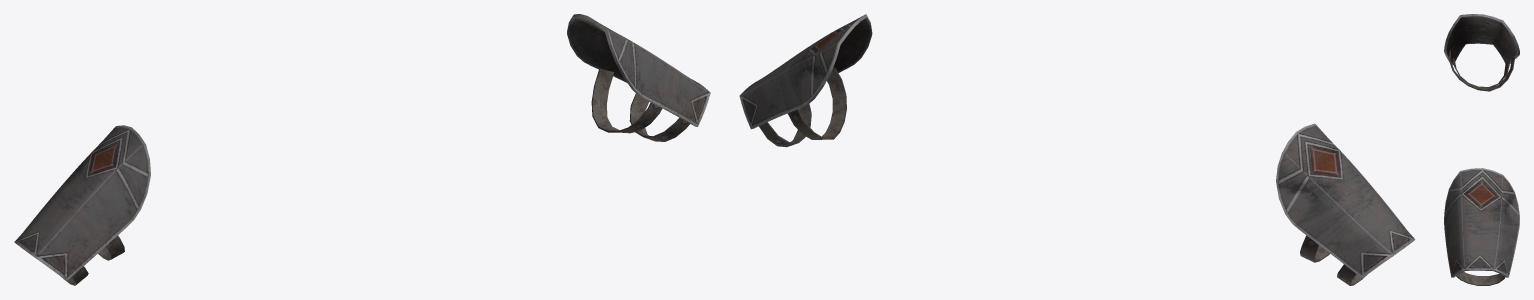
The model's file is sk_dwarf_iron_bracer_light_a1.fbx.
3 views of the same model, side by side, from view 1: azimuth 30°, elevation 25°; view 2: azimuth 150°, elevation 25°; view 3: azimuth 270°, elevation 25° (orthographic). The views are drawn at different scales.
Visible parts, largest first — view 1: sk_dwarf_iron_bracer_light_a1; view 2: sk_dwarf_iron_bracer_light_a1; view 3: sk_dwarf_iron_bracer_light_a1.
Part boxes in pixels (x1,y1,x2,y2): sk_dwarf_iron_bracer_light_a1: [14, 14, 710, 285]; sk_dwarf_iron_bracer_light_a1: [739, 14, 1415, 285]; sk_dwarf_iron_bracer_light_a1: [1444, 14, 1519, 285].
Size of the model in its own units: 1.19 by 0.168 by 0.2348.
Materials: 1 (1 with a texture image).
